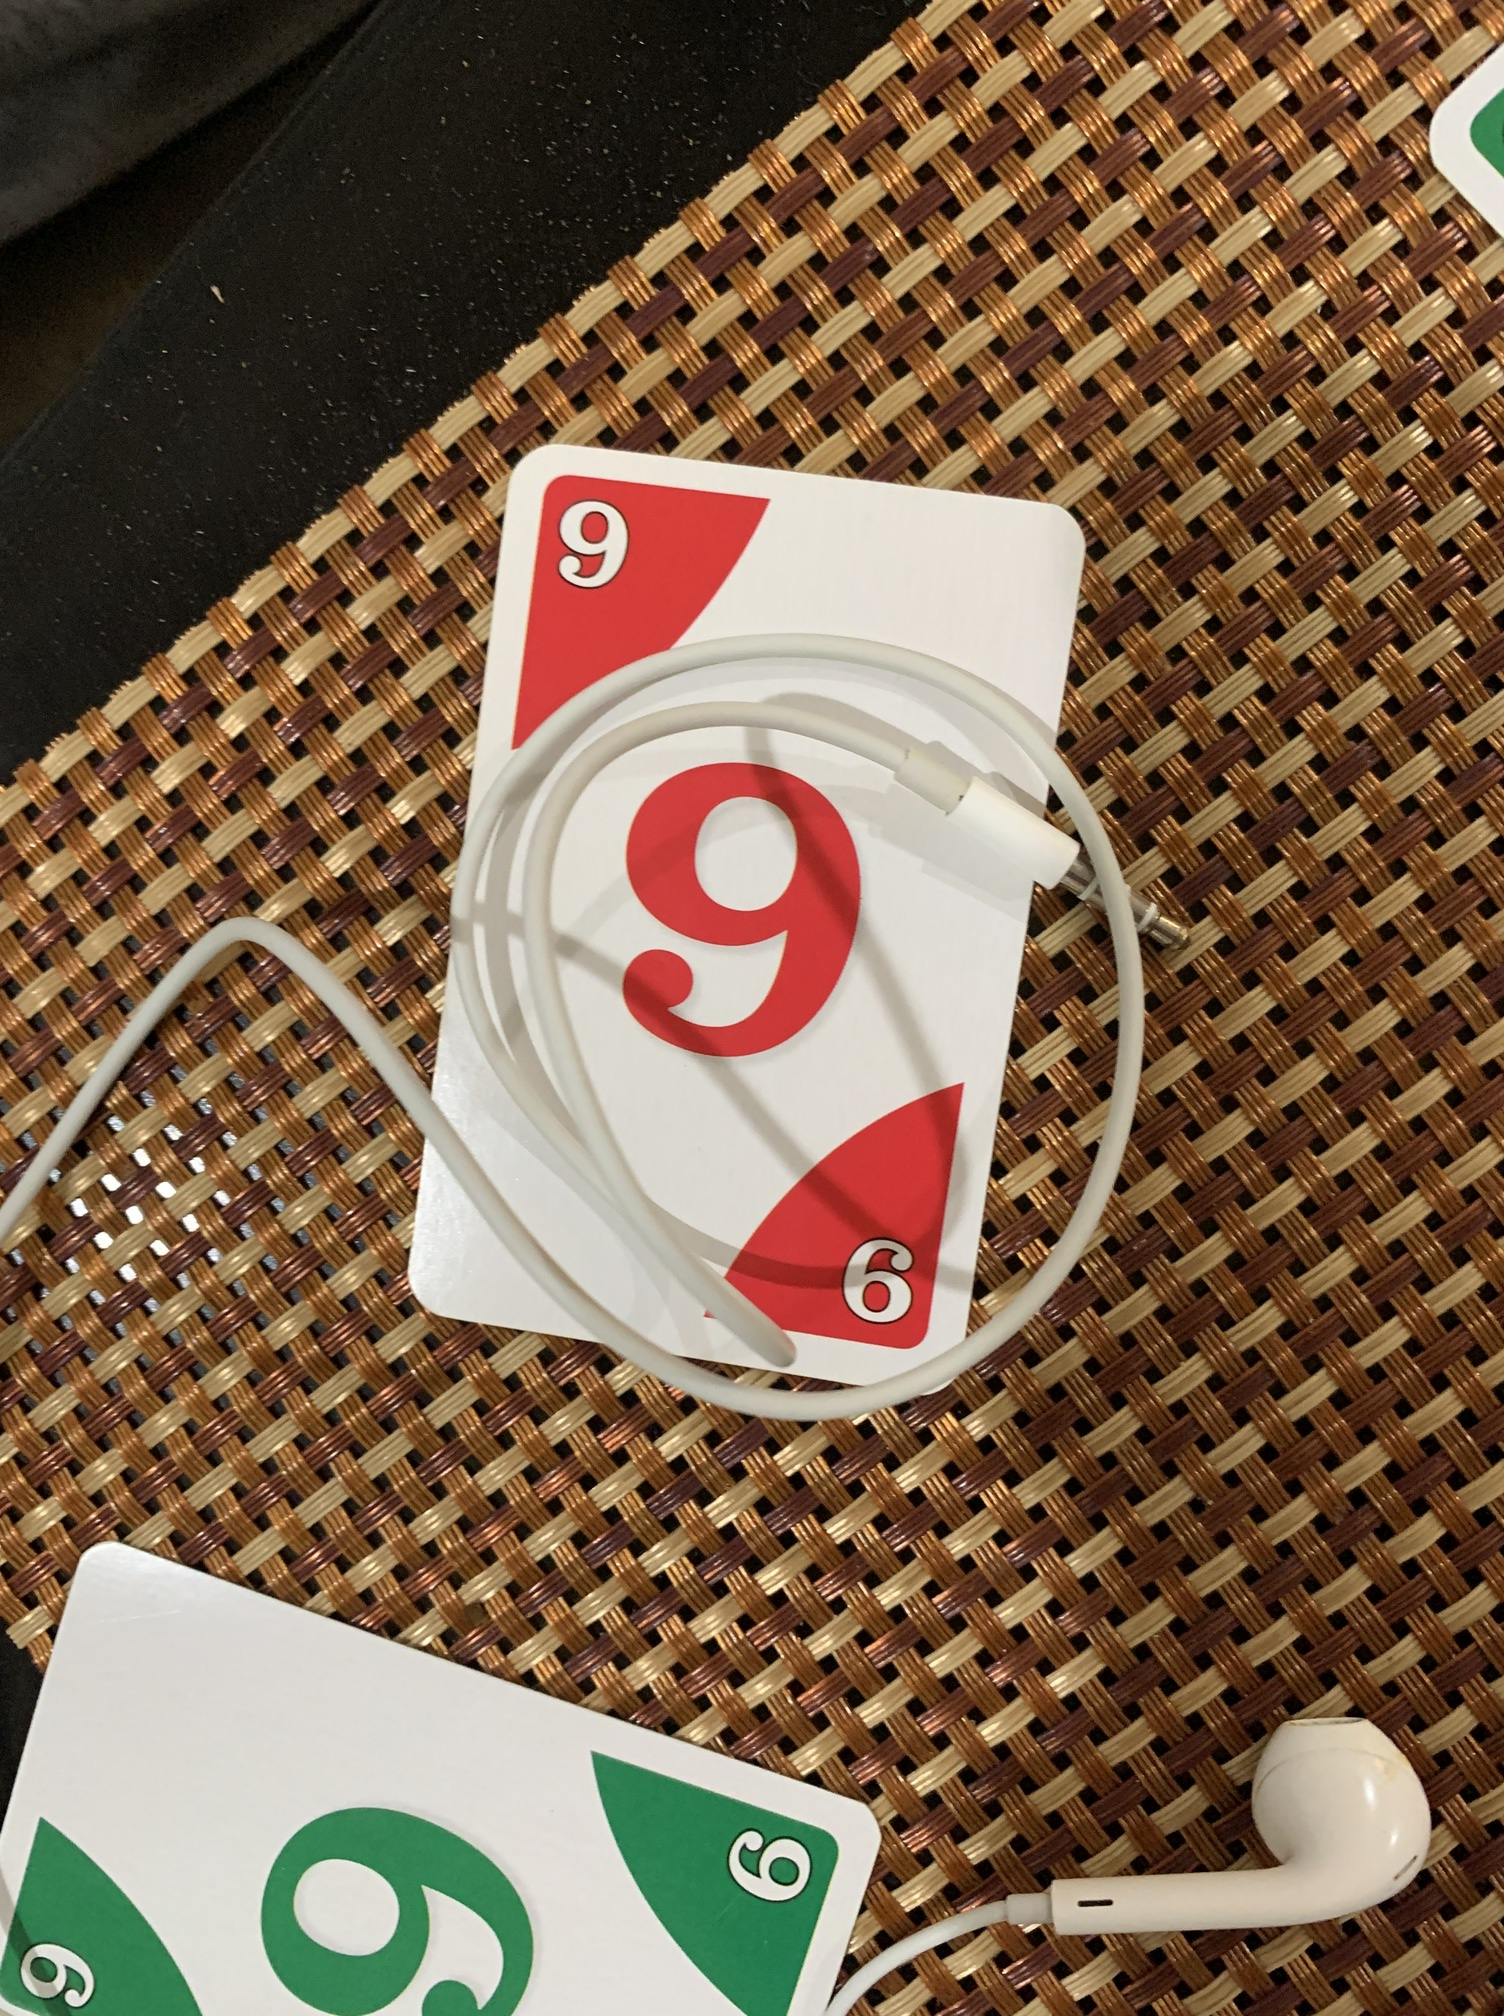nine: (395, 458, 1093, 1401)
